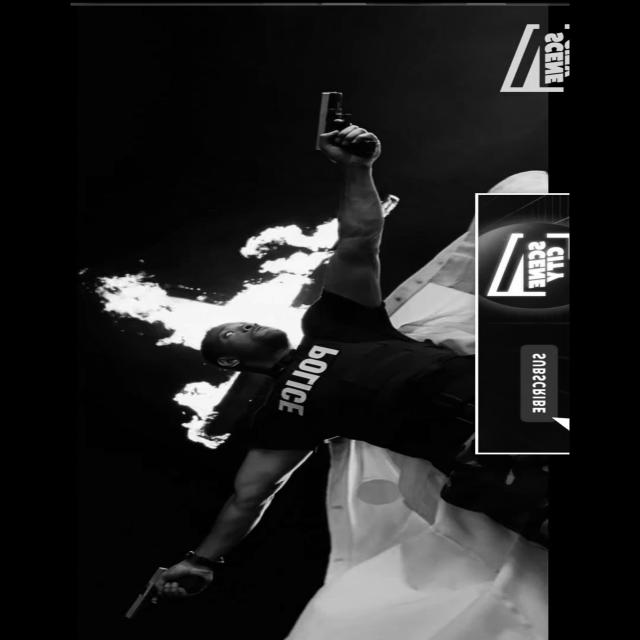weapons: (300, 78, 390, 166), (110, 560, 223, 625)
